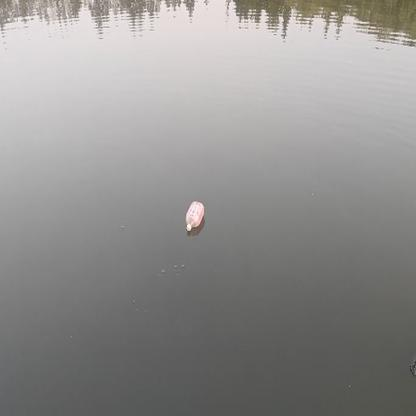plastic bottle: (185, 200, 204, 232)
